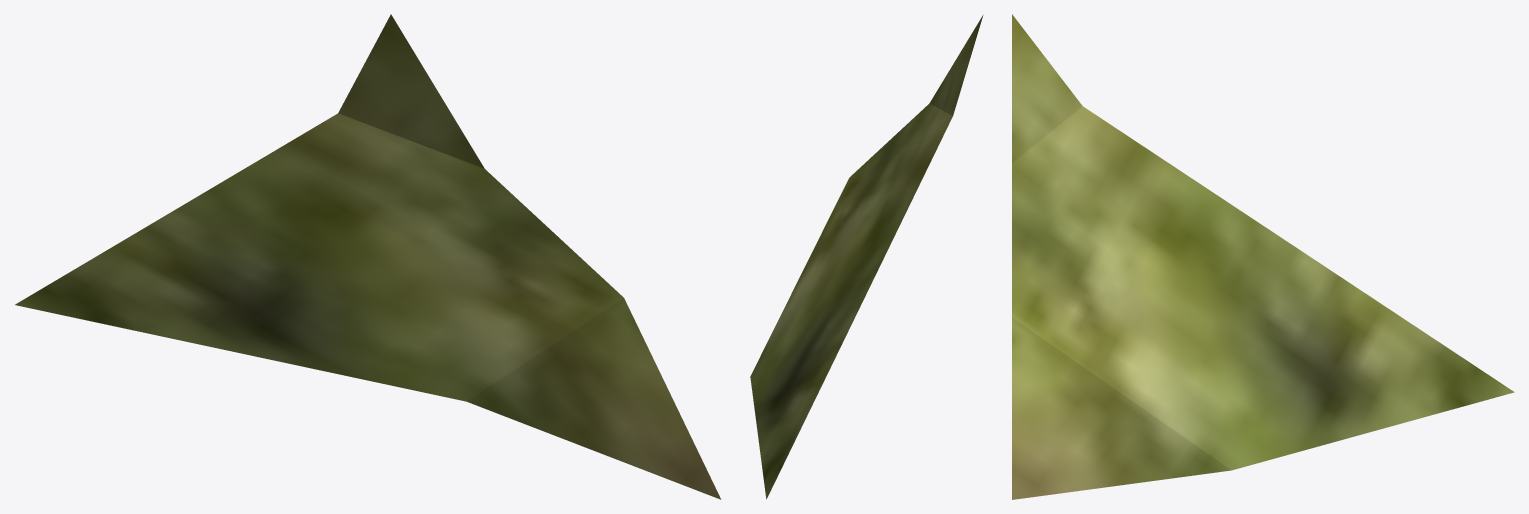
3 views of the same model, side by side, from view 1: azimuth 30°, elevation 25°; view 2: azimuth 150°, elevation 25°; view 3: azimuth 270°, elevation 25° (orthographic). The views are drawn at different scales.
Size of the model in its own units: 0.219 by 0.3588 by 0.4323.
Materials: 1 (1 with a texture image).
